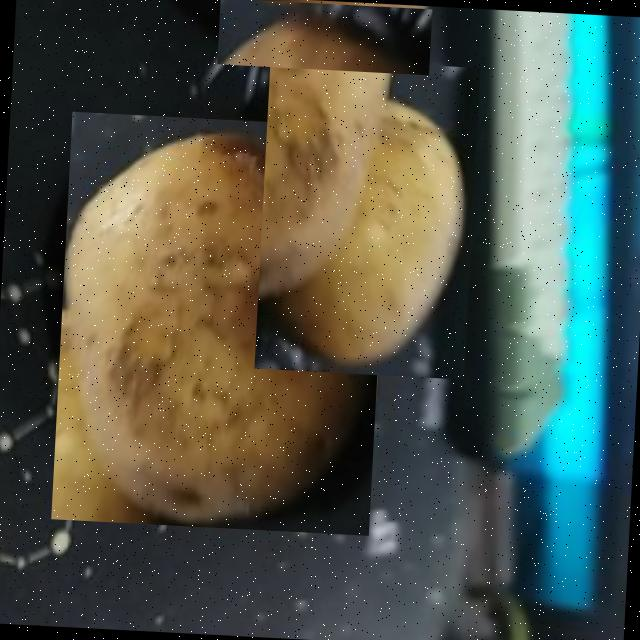Damaged potato: (51, 111, 390, 535), (217, 0, 432, 74)
Potato: (254, 56, 480, 379)
